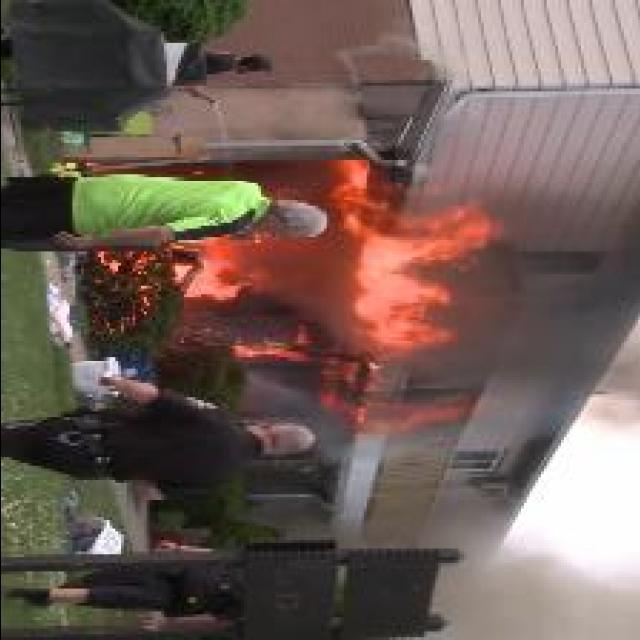Fire: (326, 163, 506, 363), (170, 242, 267, 304), (228, 324, 312, 364)
